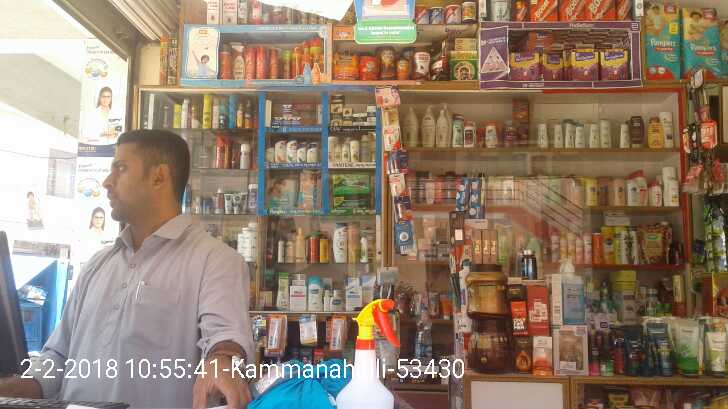beauty: (267, 135, 322, 163), (328, 135, 378, 165)
pharmacy: (329, 173, 373, 211), (263, 173, 297, 209), (296, 171, 319, 206)
